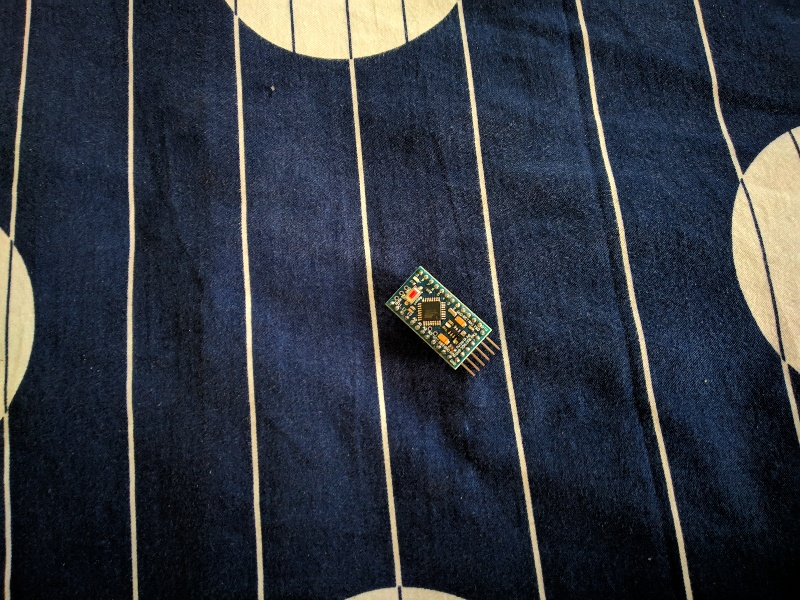Arduino Pro Mini: (383, 262, 496, 374)
